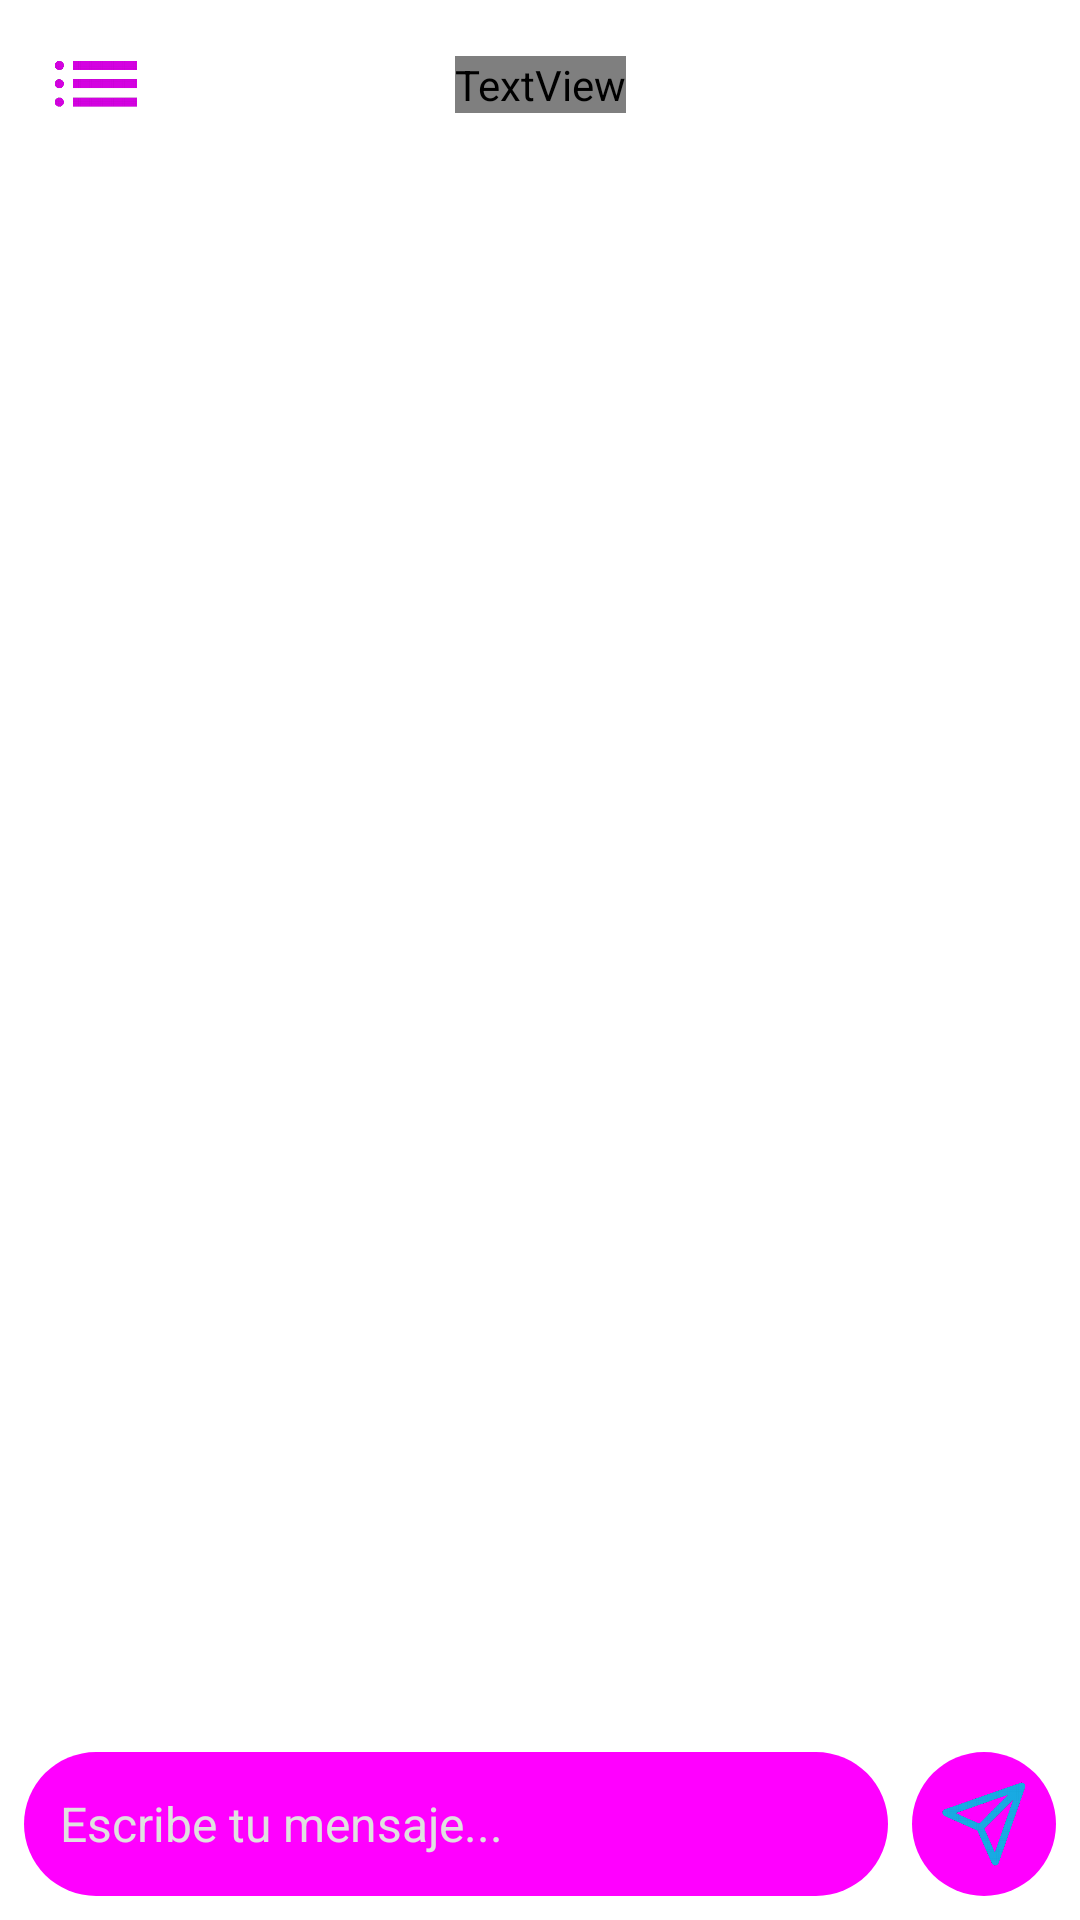

Locate icon controls on the screen. Image size 1080 x 1920, boxes as bbox=(x1, y1, x2, y2).
Abrir menú: bbox=(55, 61, 137, 107)
Enviar: bbox=(912, 1752, 1056, 1896)
